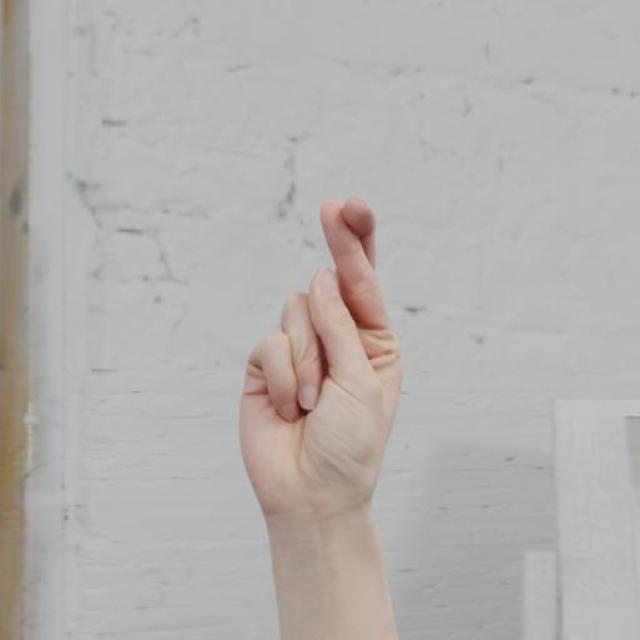R: (235, 194, 407, 526)
